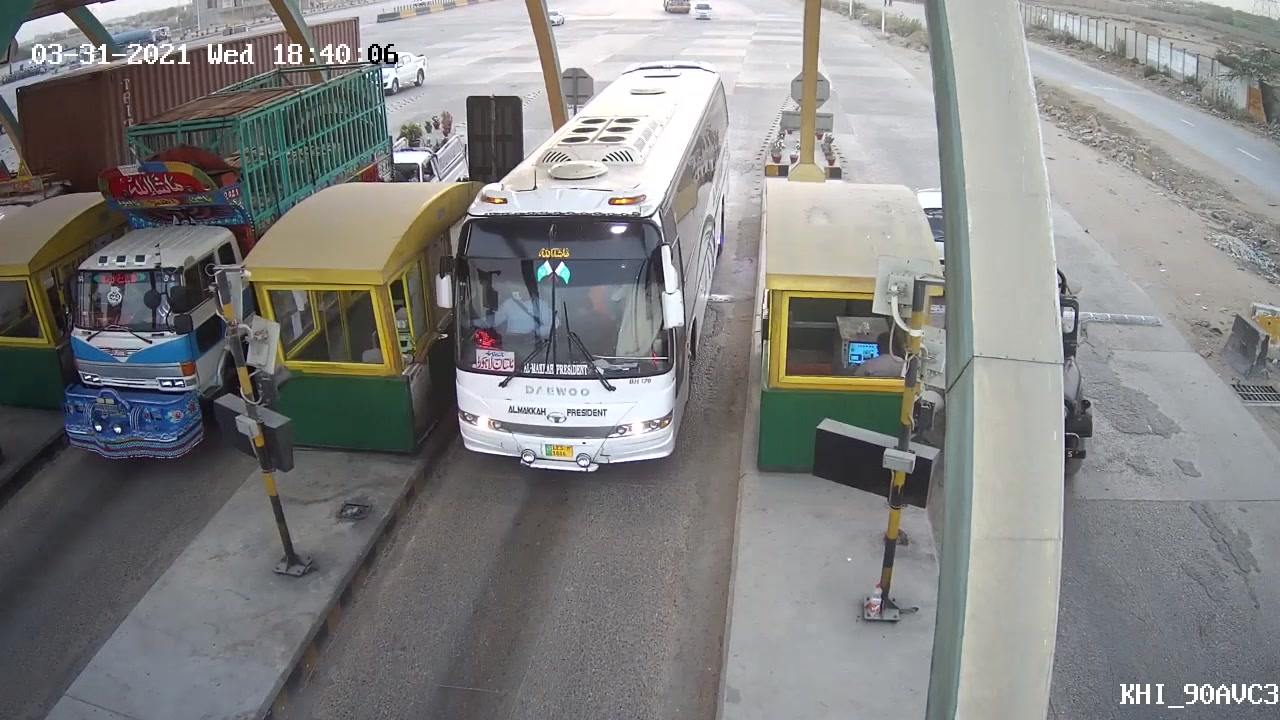F4: (433, 57, 742, 479)
